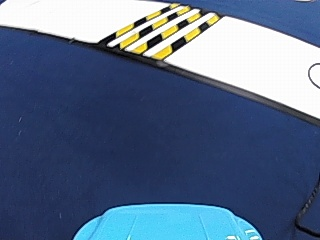bump: (83, 6, 202, 62)
